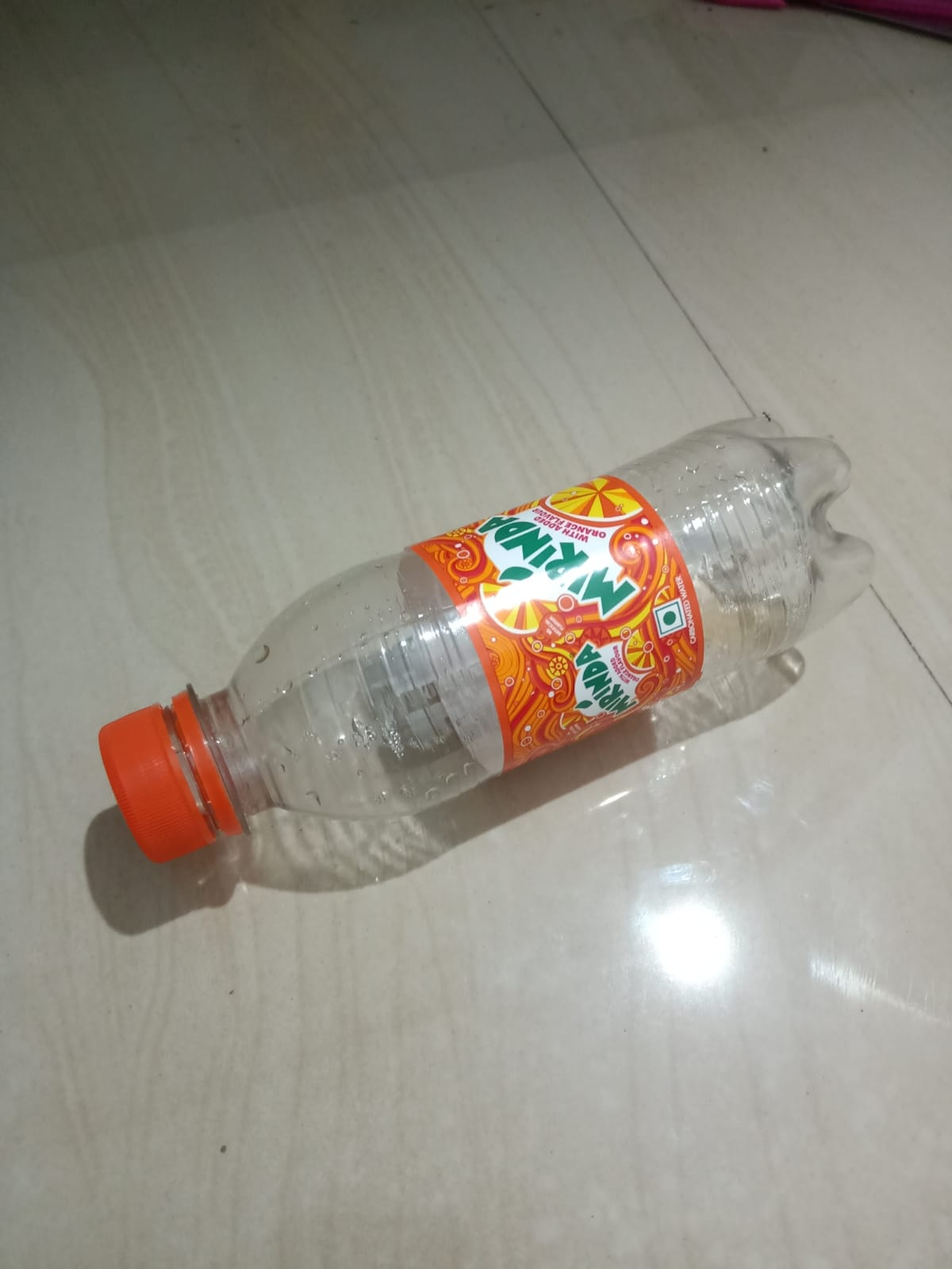plastic: (51, 379, 952, 867)
